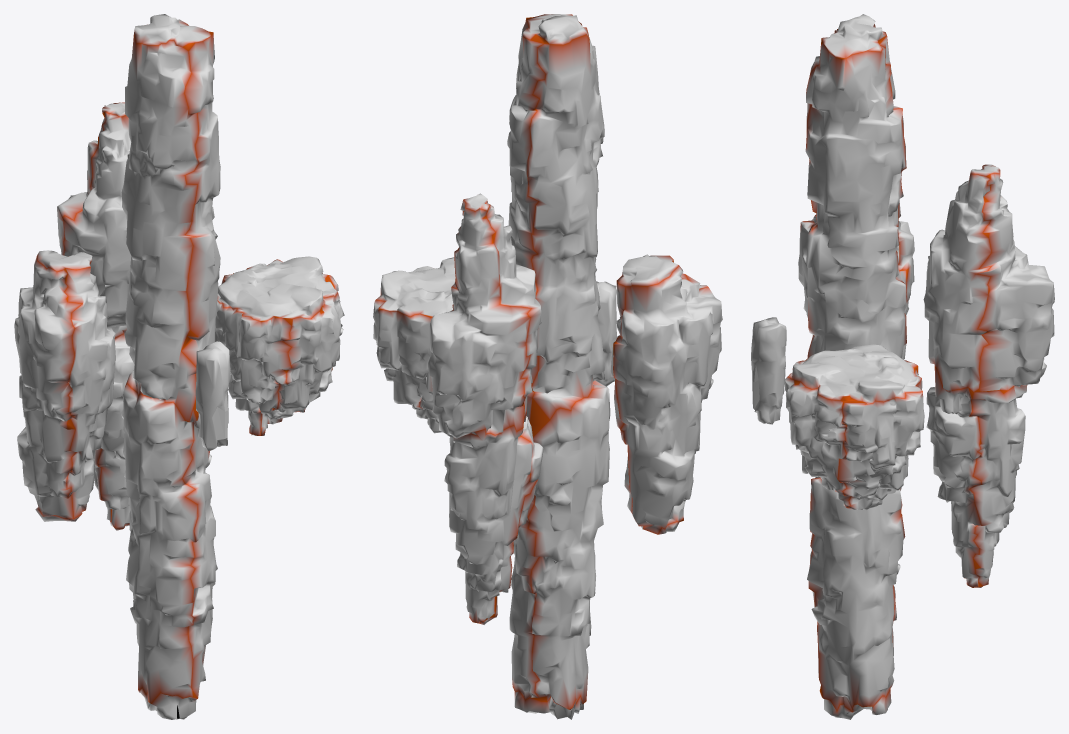
Rendered from atlas_roche_reveil01.fbx.
3 views of the same model, side by side, from view 1: azimuth 30°, elevation 25°; view 2: azimuth 150°, elevation 25°; view 3: azimuth 270°, elevation 25° (orthographic).
Visible parts, largest first — view 1: roche_reveil_colonne, roche_reveil03, roche_reveil01, roche_reveil04, roche_reveil02; view 2: roche_reveil_colonne, roche_reveil04, roche_reveil03, roche_reveil01, roche_reveil02; view 3: roche_reveil_colonne, roche_reveil04, roche_reveil01, roche_reveil02, roche_reveil03.
Part boxes in pixels (x1,y1,x2,y2): roche_reveil_colonne: (121,14,220,719); roche_reveil03: (14,250,115,521); roche_reveil01: (215,256,344,435); roche_reveil04: (57,102,134,530); roche_reveil02: (195,341,230,450); roche_reveil_colonne: (507,14,610,719); roche_reveil04: (428,193,543,624); roche_reveil03: (610,254,722,534); roche_reveil01: (373,257,455,433); roche_reveil02: (596,281,616,386); roche_reveil_colonne: (805,14,907,719); roche_reveil04: (923,164,1054,587); roche_reveil01: (784,344,924,510); roche_reveil02: (751,317,786,424); roche_reveil03: (798,214,914,359).
Bounding box in the file's own units: 18.33 × 38 × 15.27.
